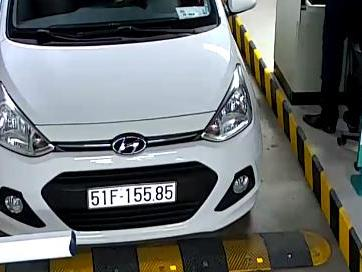number: (88, 183, 176, 208)
